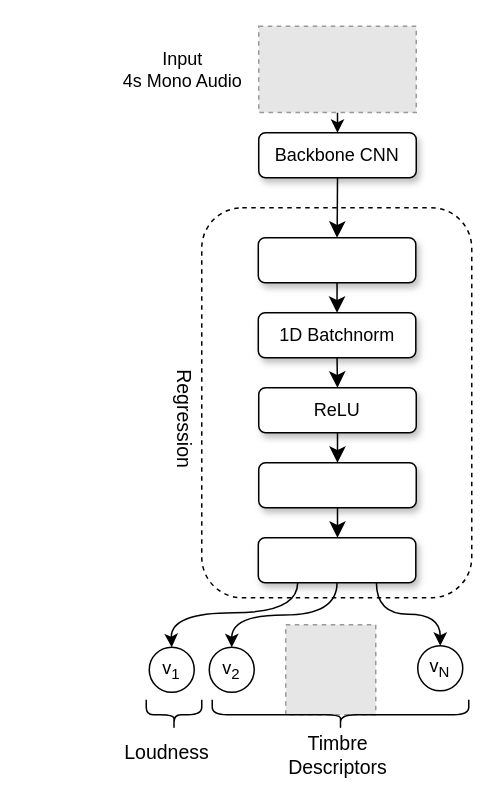
Image size: 498x804. Some labels were removed from this diagram. Grey dashed boxes stand in for pictures. The centre of each missing label's shape, as x and y in pixels:
Dropout p=0.5: [338,486]
Linear Layer 512 x 31: [338,561]
Linear Layer 512 x 512: [338,261]
